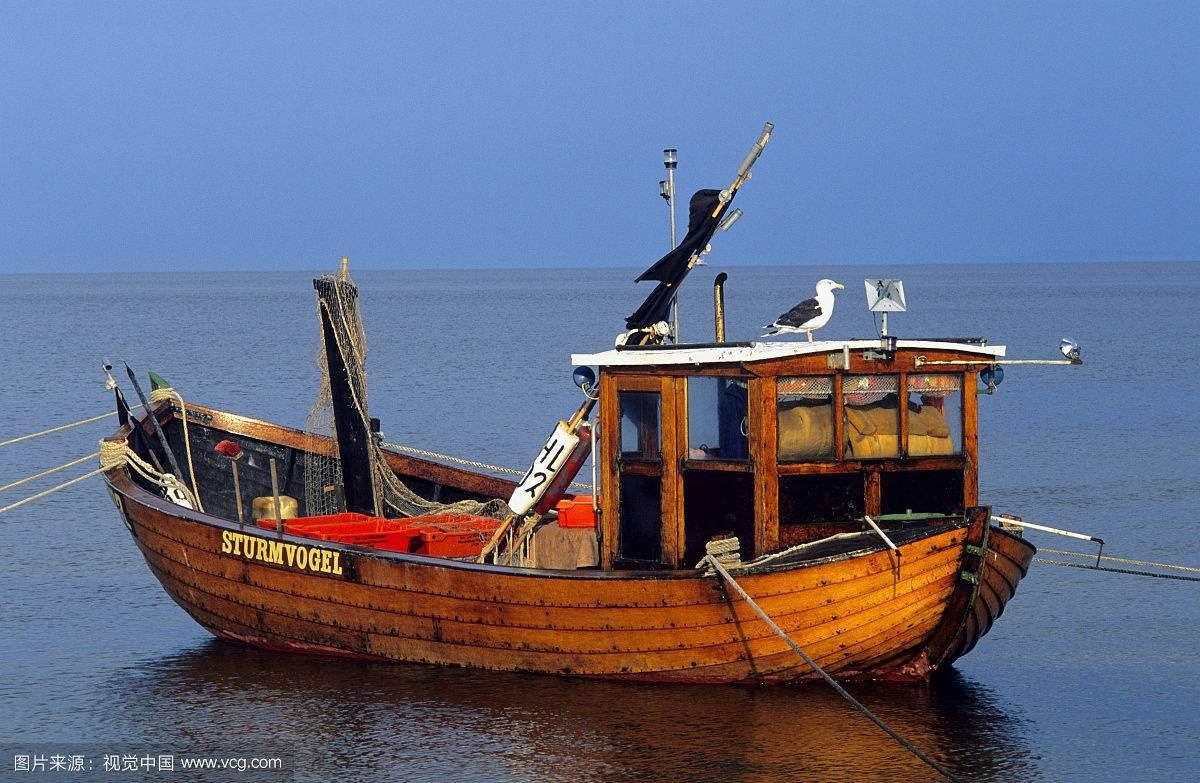otherboat: (75, 114, 1133, 724)
